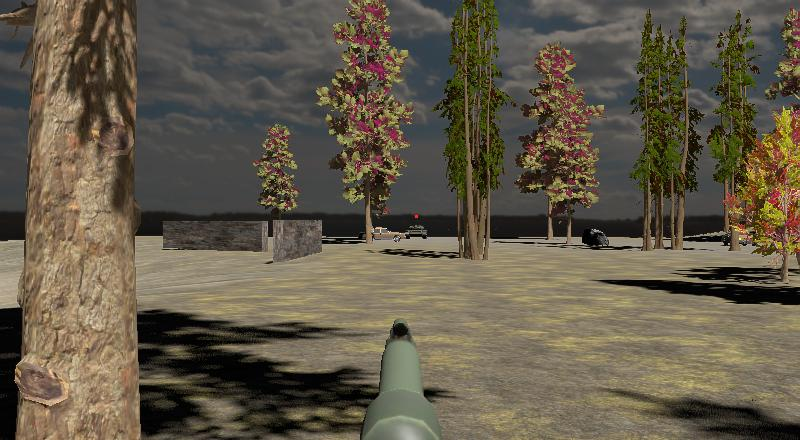Tank: (404, 223, 430, 240)
car: (722, 225, 758, 247), (369, 225, 403, 242)
